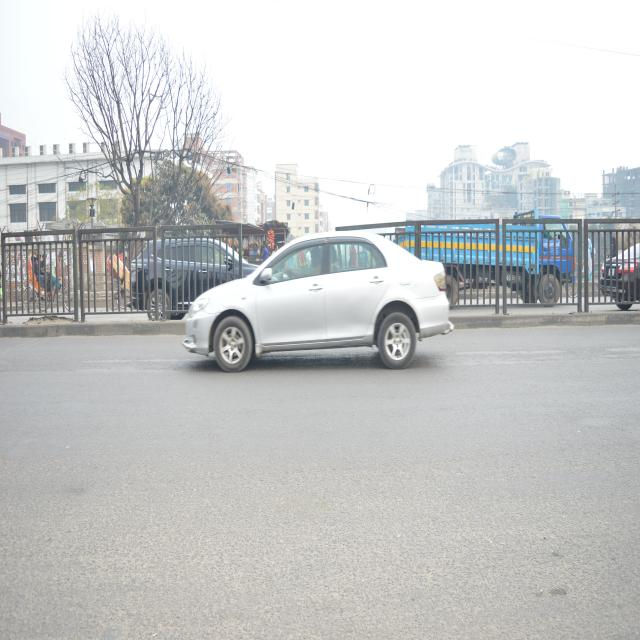car: (176, 225, 454, 376), (120, 220, 264, 314)
pickup-van: (389, 194, 577, 312)
